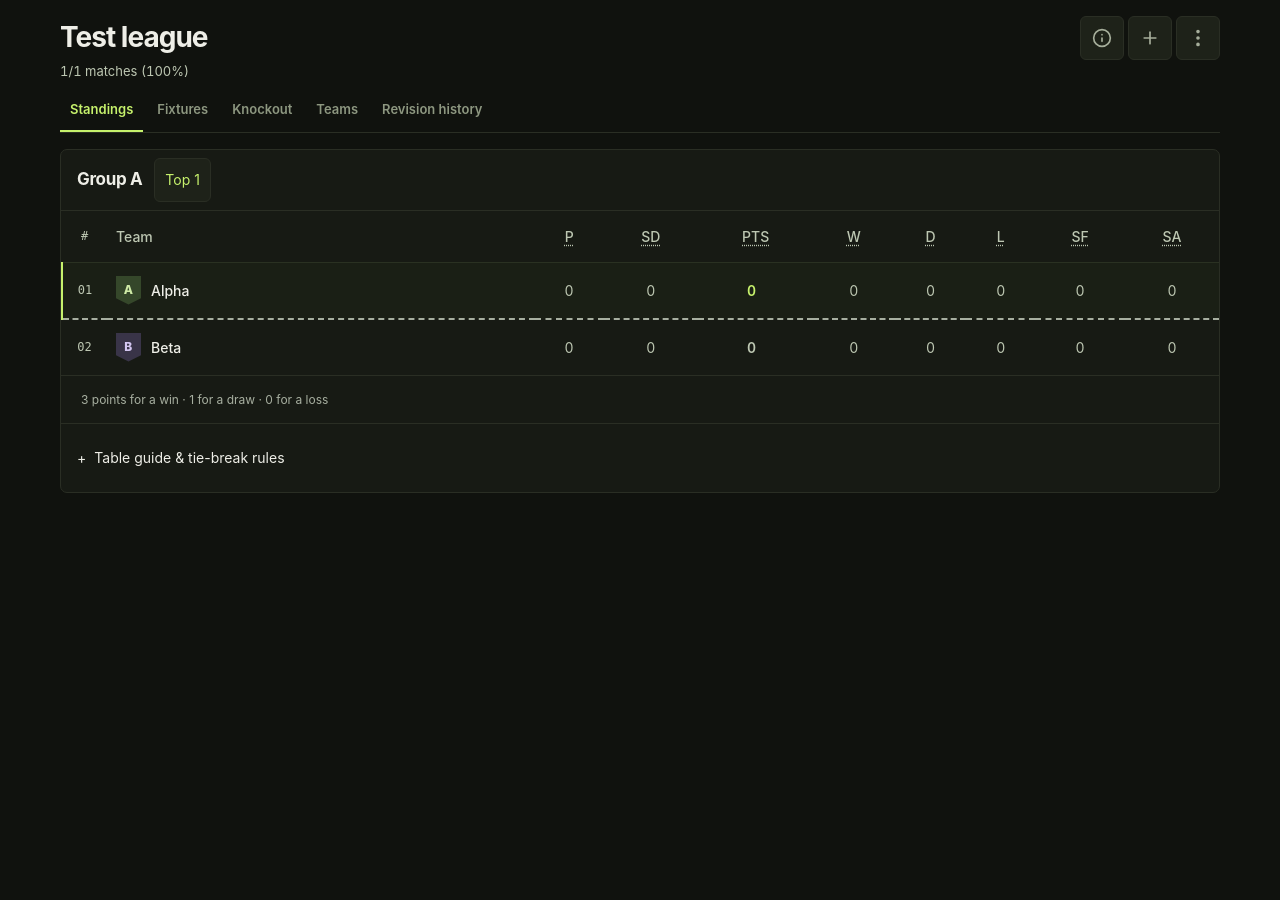
Test: standings explain provisional qualification, the cutoff, and score abbreviations
The image size is (1280, 900).
Click the button with aria-label "Qualification places for Group A: Top 1" at (183, 180), box [154,158,211,202]
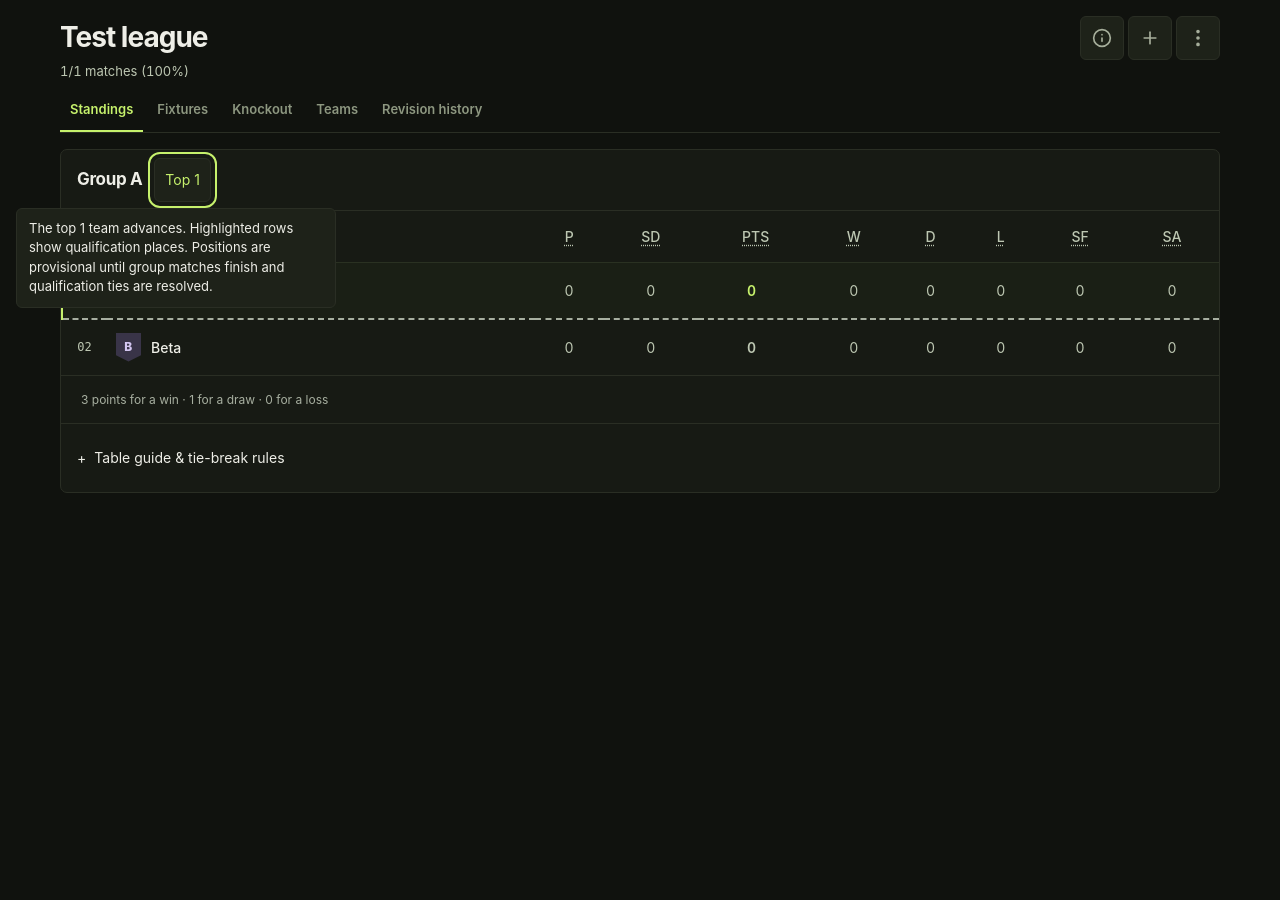
expect the tooltip shows "provisional": met, box [29,220,293,294]
Press Escape
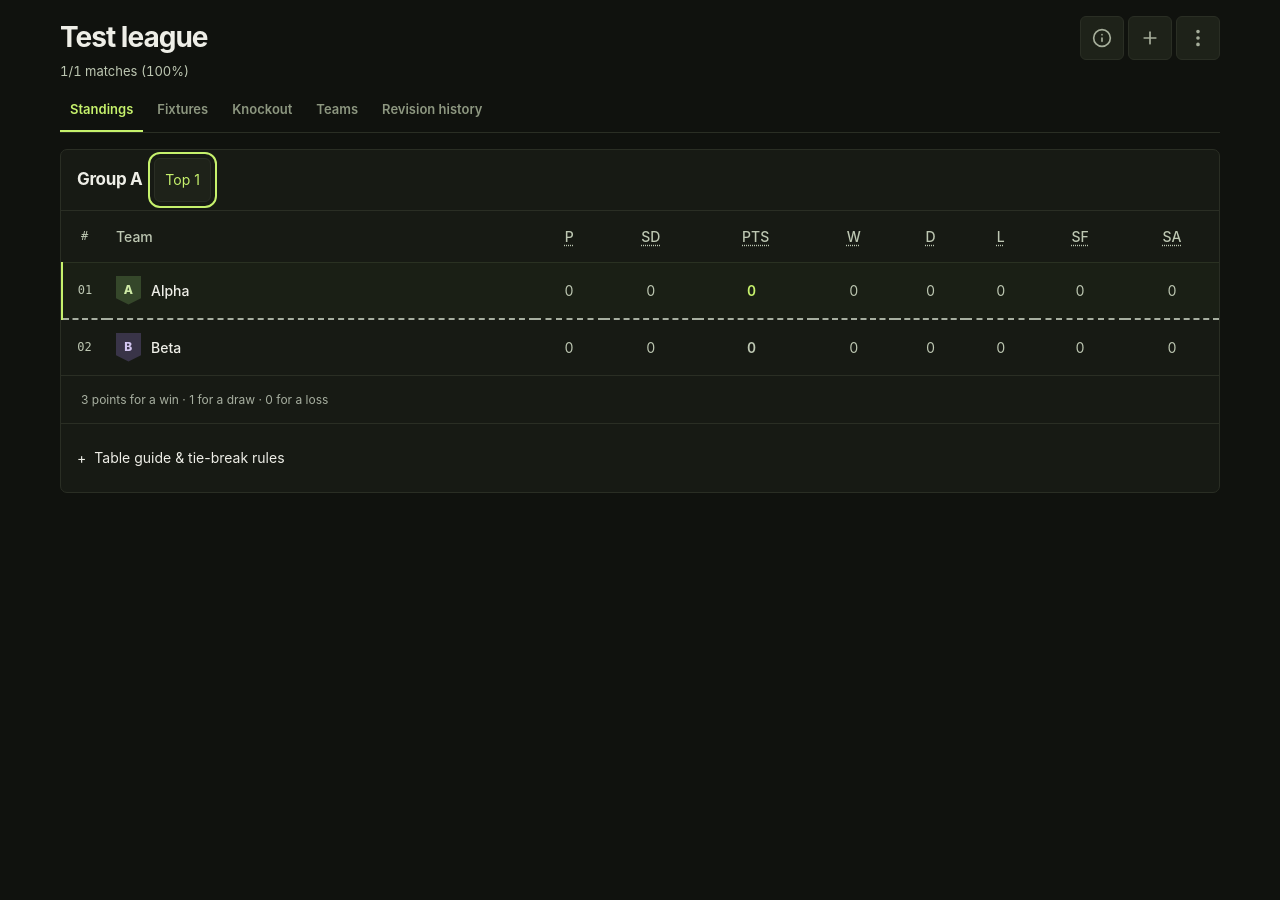
expect the tooltip is gone: met
Click the heading "Table guide & tie-break rules" at (189, 458), box [94,449,285,466]
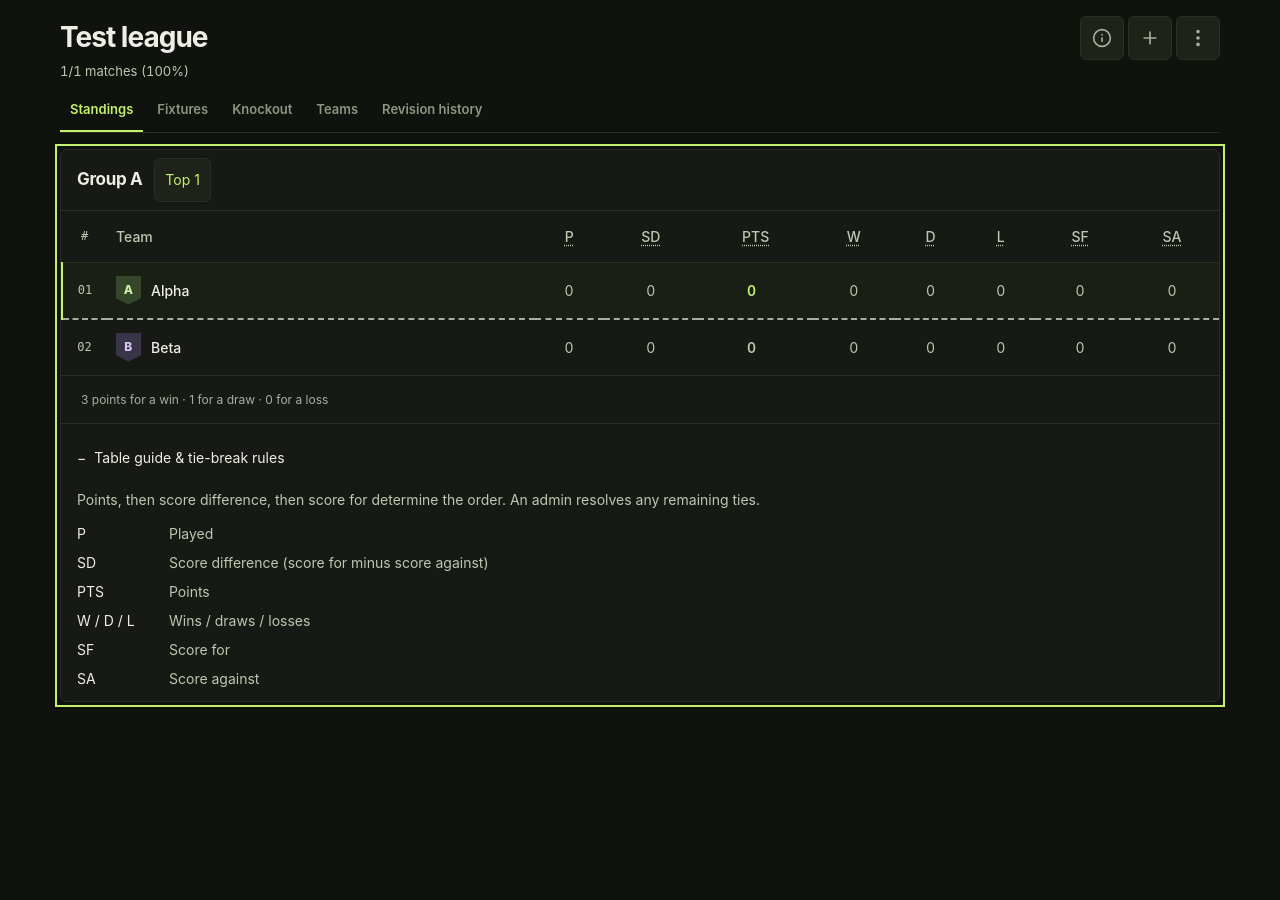
expect the text "Score for" is shown: met, box [169,641,230,658]
expect the text "Points, then score difference, then score for" is shown: met, box [77,491,760,508]
